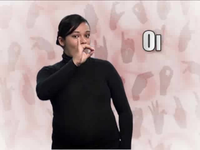oi: (73, 37, 95, 66)
